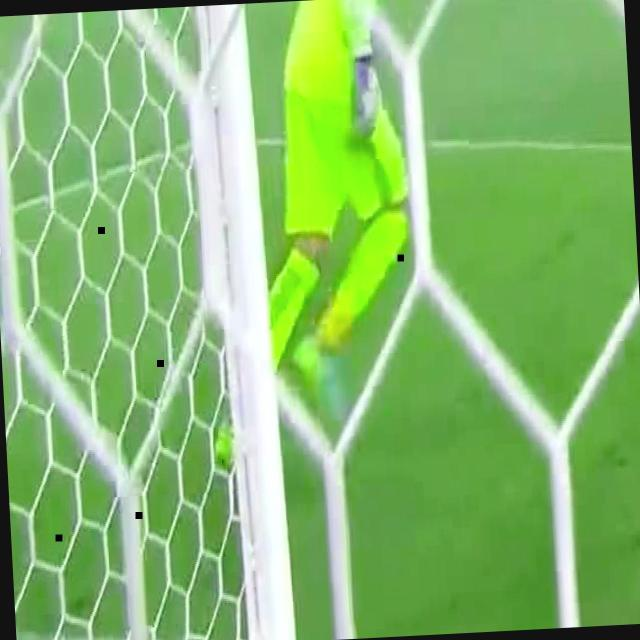player-white: (191, 0, 458, 480)
